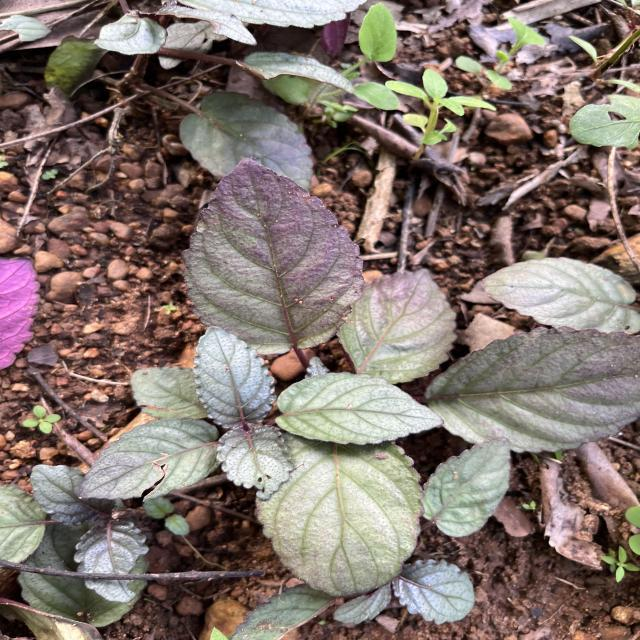Hemigraphis colorata: (175, 148, 369, 359), (422, 321, 640, 455), (253, 440, 429, 600), (336, 262, 460, 386), (272, 369, 448, 448), (72, 412, 220, 503), (478, 253, 640, 331), (417, 433, 514, 541), (188, 321, 282, 428), (390, 556, 480, 627)
